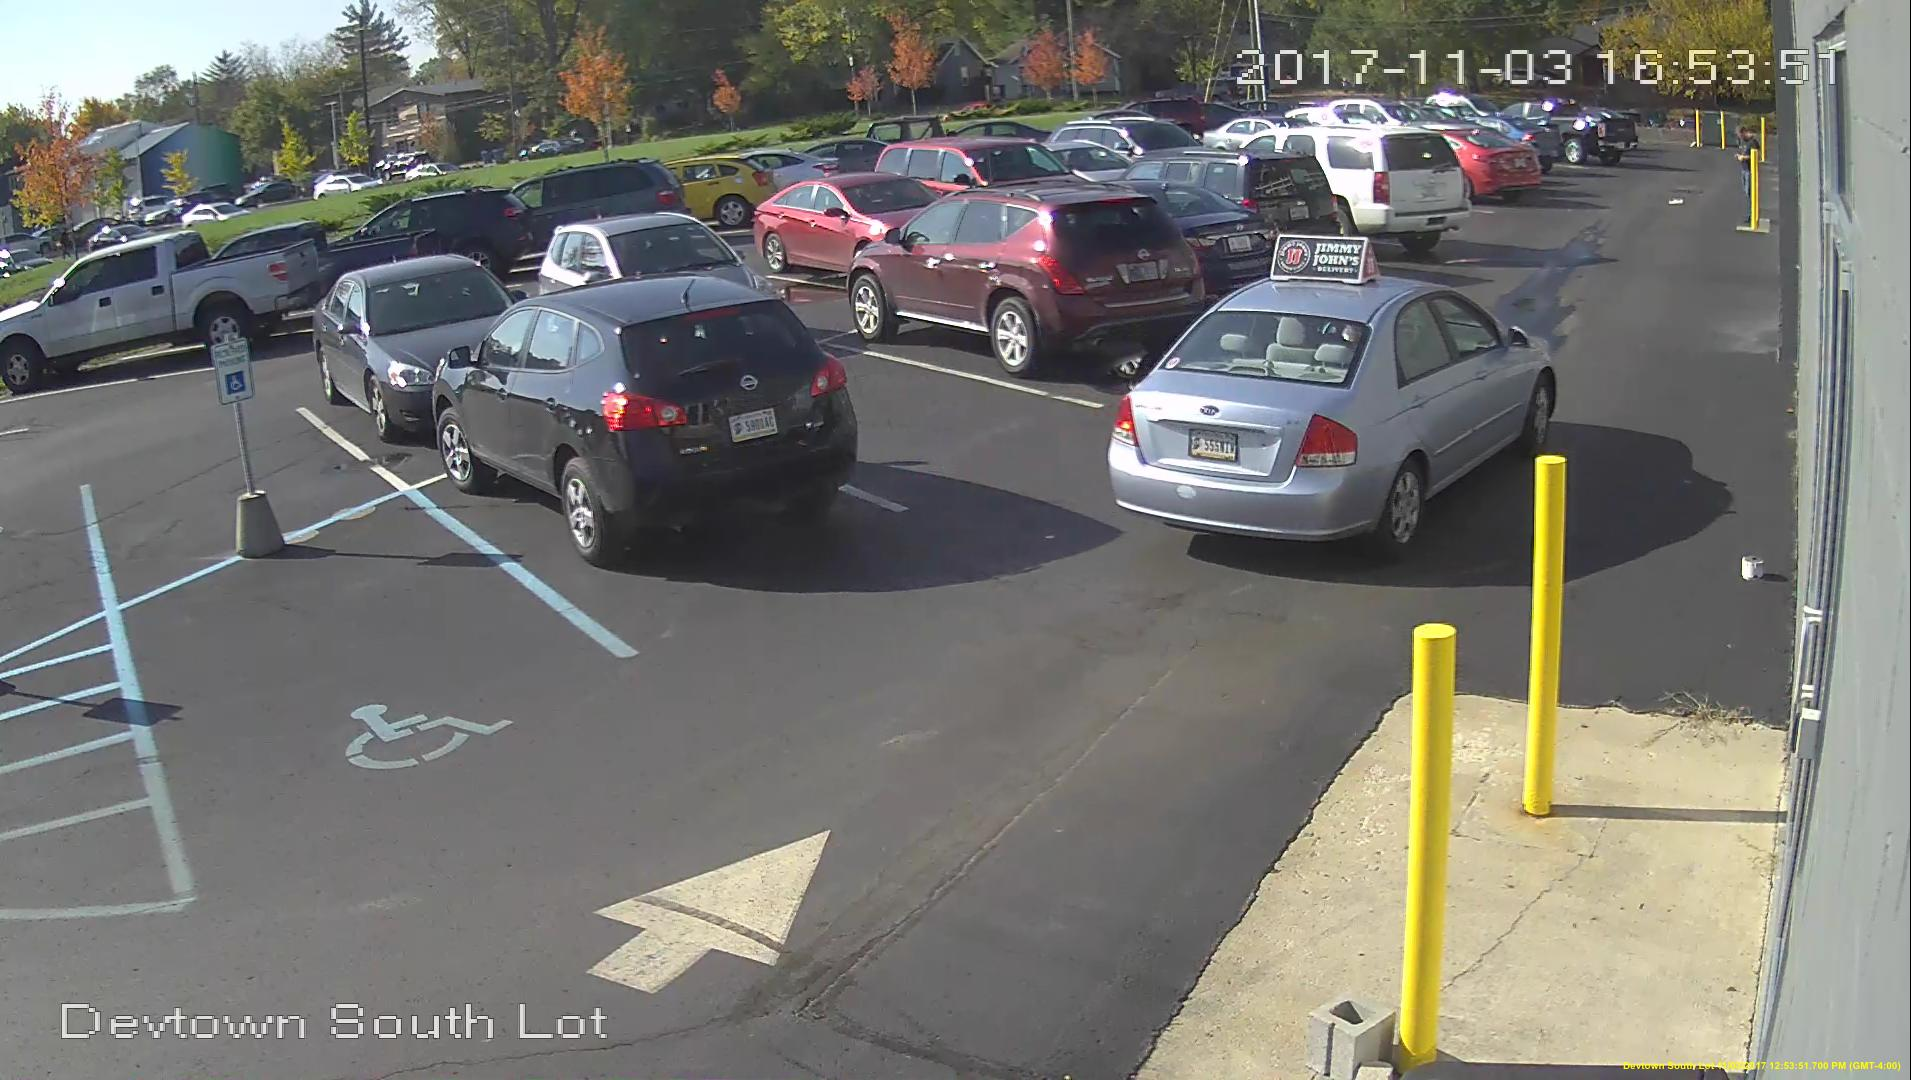jimmy_johns: (1270, 232, 1377, 285)
